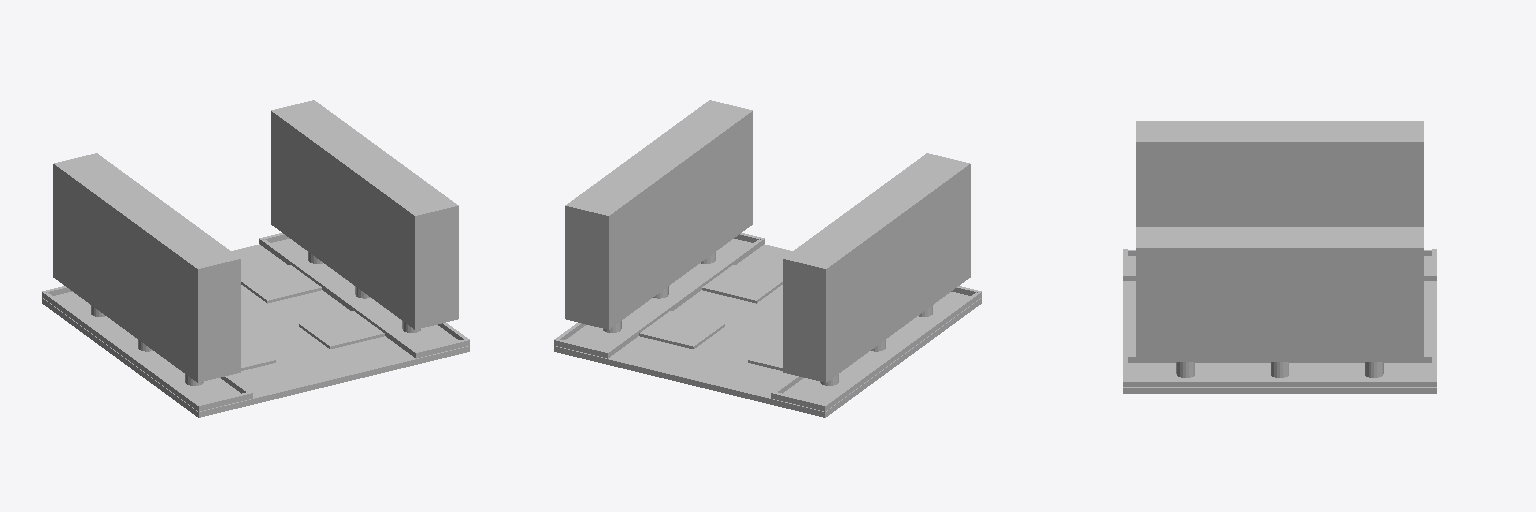
3 renders of one model, left to right at view 1: azimuth 30°, elevation 25°; view 2: azimuth 150°, elevation 25°; view 3: azimuth 270°, elevation 25°, orthographic.
Visible parts, largest first — view 1: Gerade_Hecke2; view 2: Gerade_Hecke2; view 3: Gerade_Hecke2.
Part boxes in pixels (left/top/right/bottom): Gerade_Hecke2: left=42, top=100, right=469, bottom=417; Gerade_Hecke2: left=554, top=100, right=981, bottom=417; Gerade_Hecke2: left=1123, top=121, right=1436, bottom=393.
Size of the model in its own units: 5 by 2.51 by 5.